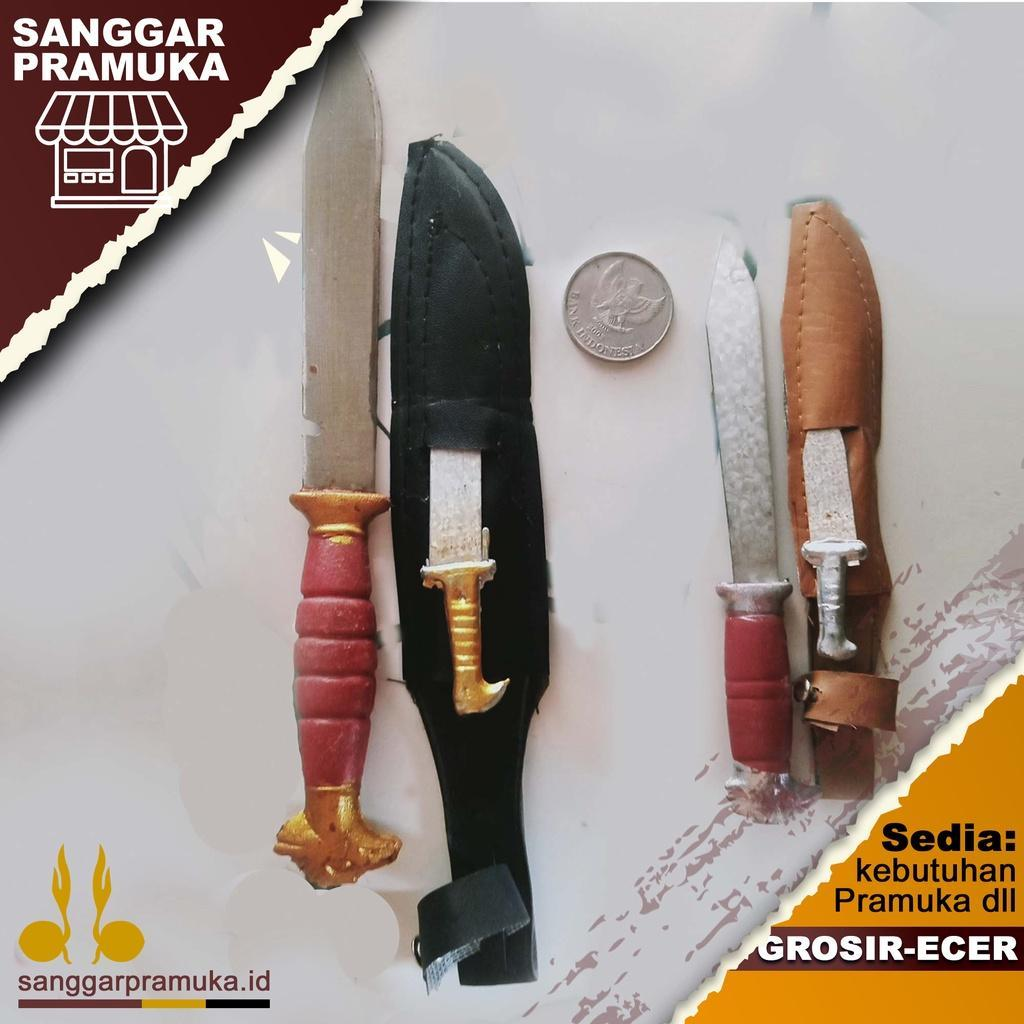faca: (274, 49, 401, 889), (707, 238, 795, 816)
